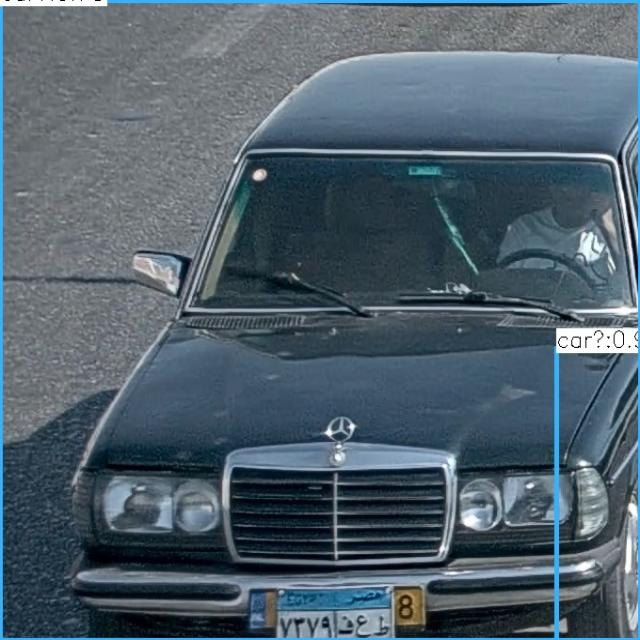windshield: (194, 150, 640, 313)
